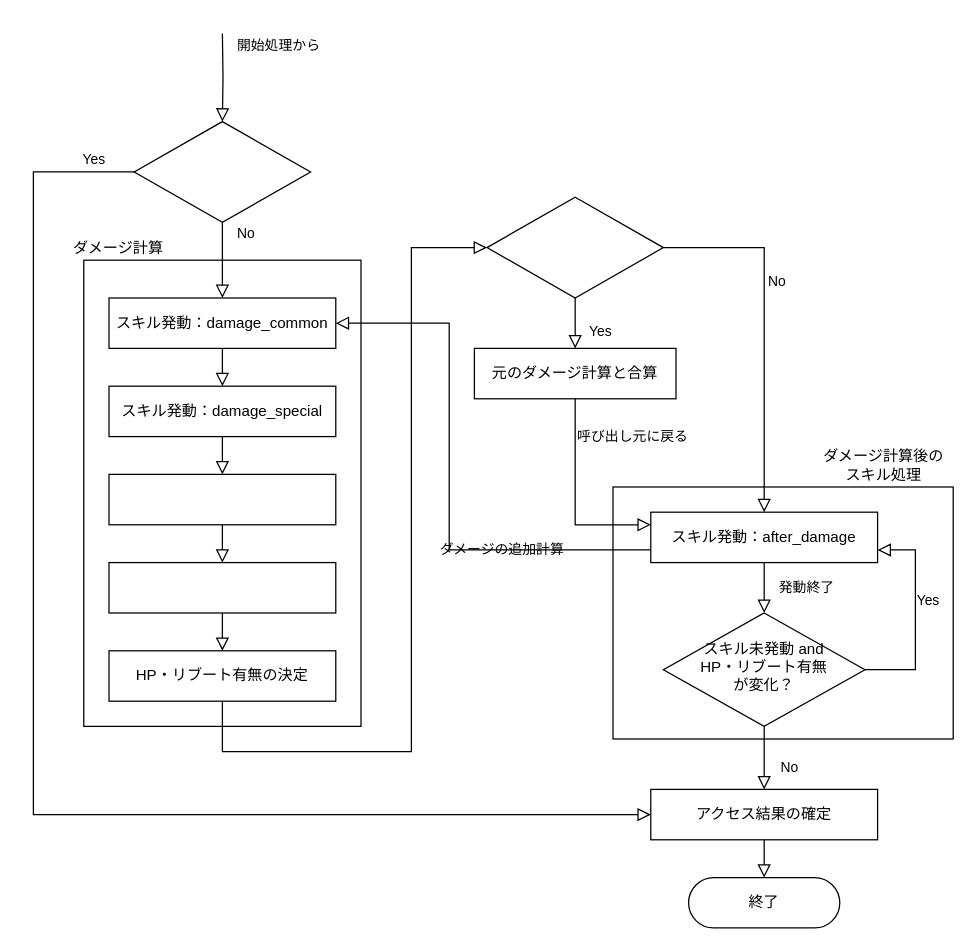
This 975x950 diagram has some shape labels left out. The box of each missing label's shape, as (x1, y1, x2, y2) in pixels:
スキル発動：damage_fixed: (108, 473, 336, 525)
ダメージの 追加計算中？: (486, 196, 663, 298)
ダメージ量の計算: (108, 561, 336, 613)
相手が不在？ or フットバース？: (133, 120, 311, 222)
